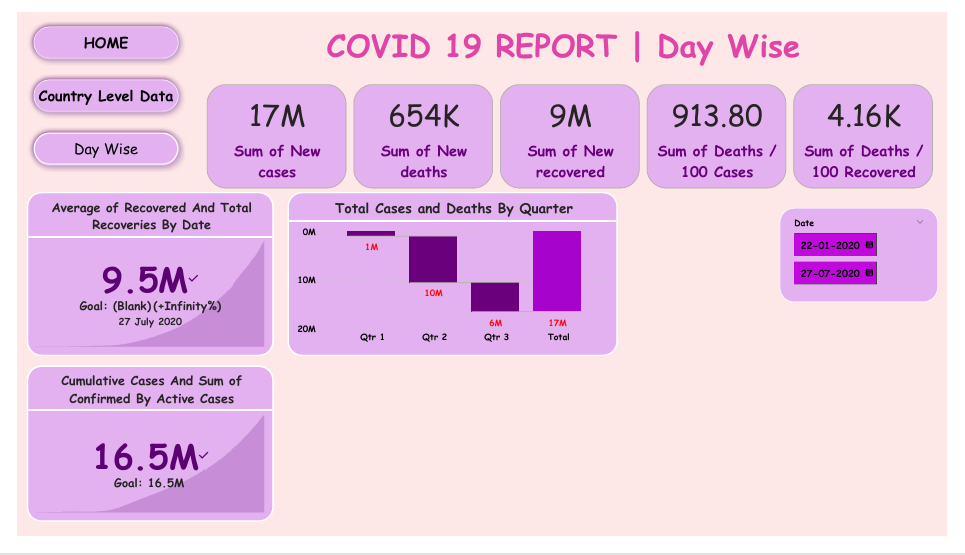

What the dashboard file says about the page in this screenshot:
{"tool":"powerbi","page":{"name":"Day Wise","canvas":[1280,720],"ordinal":2},"visuals":[{"type":"textbox","box":[255.7,10,1011.4,71.4],"z":0},{"type":"pageNavigator","box":[12.9,10,218.6,210],"z":1000},{"type":"waterfallChart","title":"Total Cases and Deaths By Quarter","fields":{"Y":["day_wise.TotalCases"],"Category":["day_wise.Date.Variation.Date Hierarchy.Quarter"]},"box":[371.6,247.2,455.4,225.5],"z":2000},{"type":"slicer","fields":{"Values":["day_wise.Date"]},"box":[1049.6,268.9,218.3,130.1],"z":3000},{"type":"kpi","title":"Average of Recovered And Total Recoveries By Date","fields":{"Indicator":["Avg(day_wise.Recovered)"],"Goal":["day_wise.TotalRecoveries"],"TrendLine":["day_wise.Date"]},"box":[13,247.2,339.8,225.5],"z":4000},{"type":"cardVisual","fields":{"Data":["Sum(day_wise.New cases)","Sum(day_wise.New deaths)","Sum(day_wise.New recovered)","Sum(day_wise.Deaths / 100 Cases)","Sum(day_wise.Deaths / 100 Recovered)"]},"box":[255.9,94,1012,153.3],"z":5000},{"type":"kpi","title":"Cumulative Cases And Sum of Confirmed By Active Cases","fields":{"Indicator":["day_wise.CumulativeCases"],"Goal":["Sum(day_wise.Confirmed)"],"TrendLine":["day_wise.Active"]},"box":[13,485.8,339.8,215.4],"z":6000}]}

Visuals, with their boxes in screenshot pixels (x1, y1, x2, y2), scaled from the page's 1280x720 canvas onto the 965x555 screenshot:
textbox: BBox(193, 8, 955, 63)
pageNavigator: BBox(10, 8, 175, 170)
"Total Cases and Deaths By Quarter" waterfallChart: BBox(280, 191, 623, 364)
slicer - day_wise.Date: BBox(791, 207, 956, 308)
"Average of Recovered And Total Recoveries By Date" kpi: BBox(10, 191, 266, 364)
cardVisual - Sum(day_wise.New cases) x Sum(day_wise.New deaths): BBox(193, 72, 956, 191)
"Cumulative Cases And Sum of Confirmed By Active Cases" kpi: BBox(10, 374, 266, 541)
